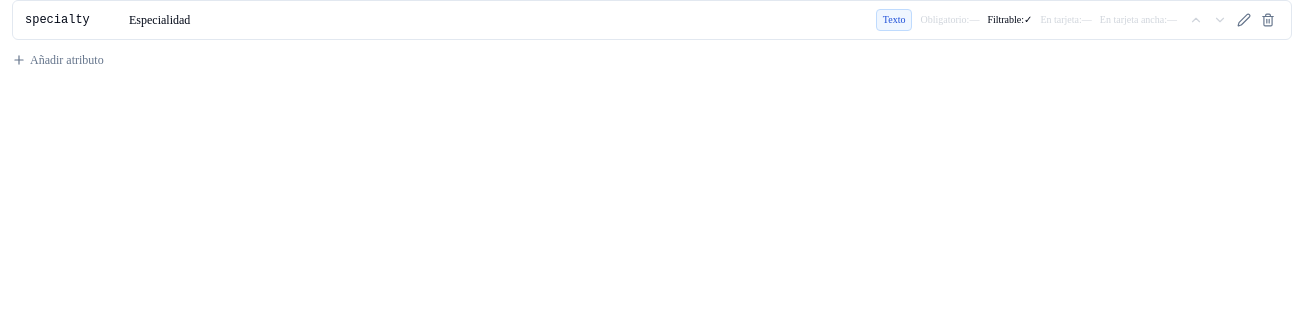
Scenario: AttributeSchemaEditor — appliesTo › atributo existente con appliesTo:[SERVICE] precarga solo el checkbox Servicio
This screenshot has width=1292, height=314.
Step 1. Click the button with test id "edit-attr-specialty" → (1244, 20), box top-left (1233, 9), bottom-right (1255, 31)
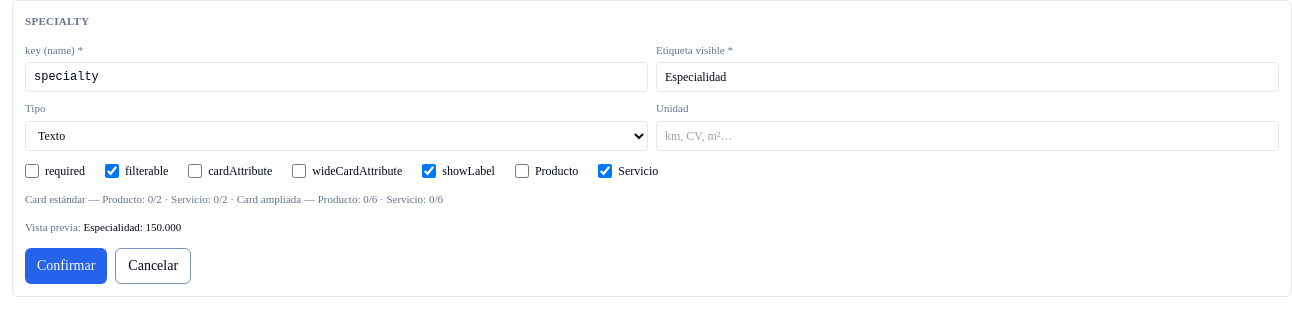
Now the checkbox with test id "applies-to-product-checkbox" is not checked, box top-left (515, 164), bottom-right (529, 178)
Now the checkbox with test id "applies-to-service-checkbox" is checked, box top-left (598, 164), bottom-right (612, 178)
